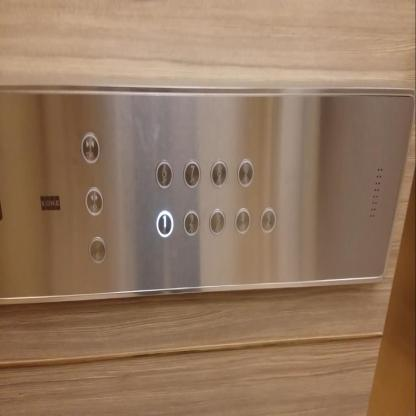1: (155, 209, 174, 239)
2: (182, 209, 199, 236)
3: (209, 208, 226, 235)
4: (234, 207, 251, 234)
5: (259, 206, 275, 234)
6: (155, 159, 173, 190)
7: (182, 158, 200, 189)
8: (210, 159, 227, 188)
9: (237, 158, 253, 188)
close: (80, 132, 100, 164)
empty: (88, 236, 106, 264)
open: (84, 186, 104, 216)
